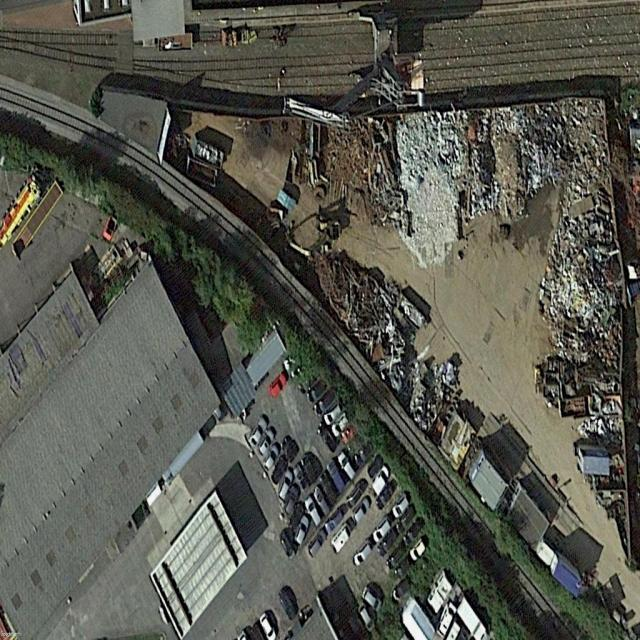dump_site: (304, 216, 468, 436), (538, 174, 624, 420), (397, 111, 466, 265), (462, 104, 539, 225), (536, 99, 609, 184), (370, 116, 400, 232), (326, 113, 371, 189), (576, 415, 622, 446)
